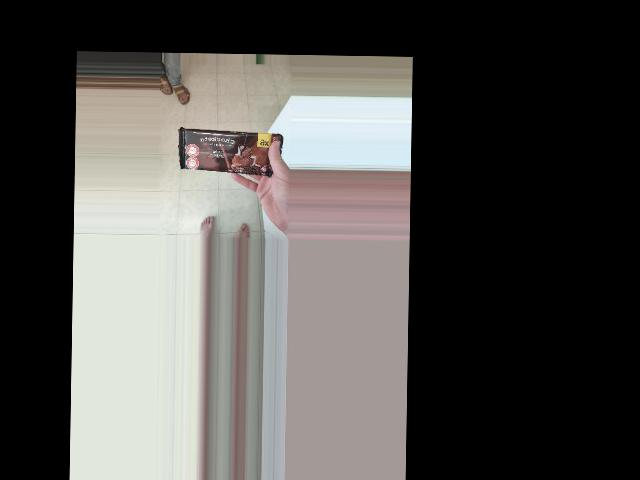chocolate: (166, 78, 231, 187)
